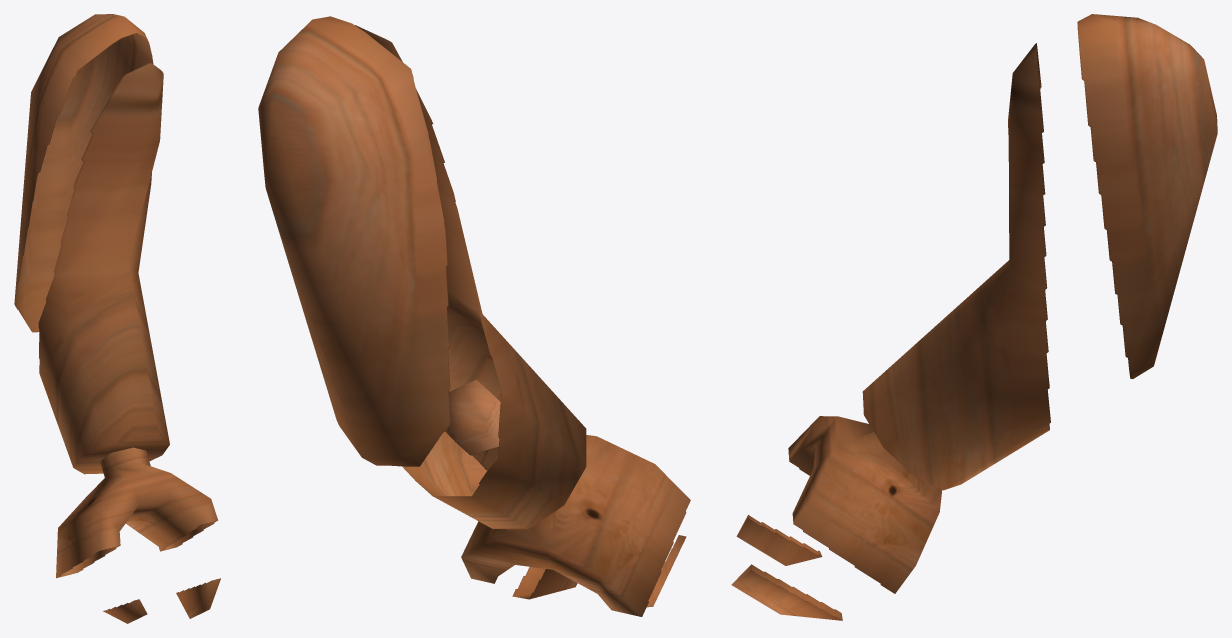
The model's file is BrazoDerechoLego.obj.
The picture shows the model from 3 angles, left to right: view 1: azimuth 30°, elevation 25°; view 2: azimuth 150°, elevation 25°; view 3: azimuth 270°, elevation 25°; orthographic projection. The views are drawn at different scales.
Parts seen in each view (by area): view 1: BrazoDerecho; view 2: BrazoDerecho; view 3: BrazoDerecho.
Part boxes in pixels (bbox=[...]): BrazoDerecho: bbox=[14, 14, 220, 623]; BrazoDerecho: bbox=[258, 16, 690, 616]; BrazoDerecho: bbox=[731, 14, 1217, 620].
Size of the model in its own units: 3.48 by 9.29 by 6.48.
